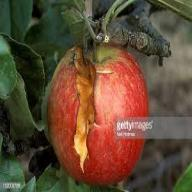apple: (48, 46, 148, 176)
